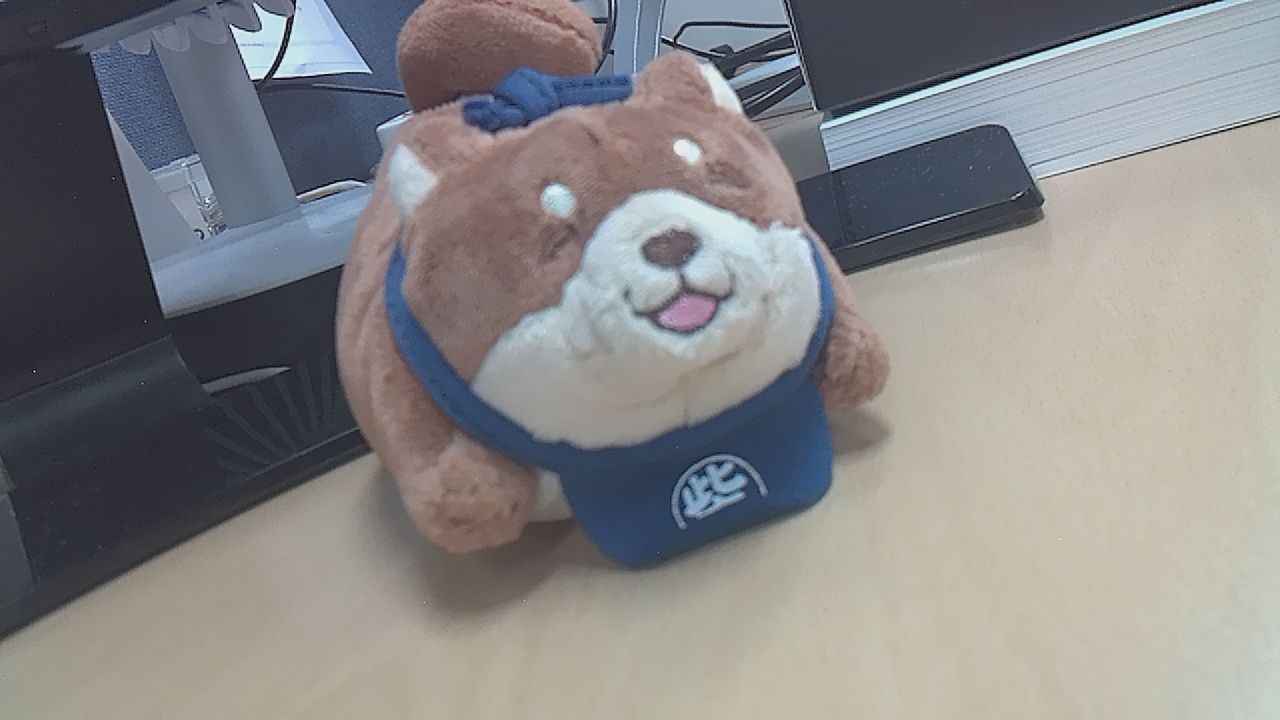cuteDog: (296, 58, 893, 600)
